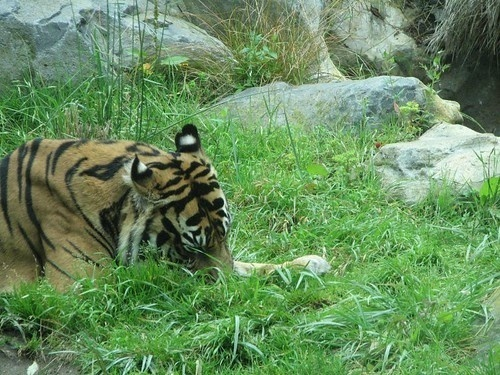tigre: (1, 120, 332, 300)
